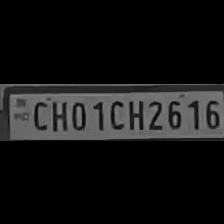0: (68, 98, 88, 130)
1: (88, 97, 106, 130), (184, 97, 202, 129)
2: (144, 96, 162, 130)
6: (164, 97, 182, 129), (202, 96, 220, 128)
C: (28, 96, 48, 130), (105, 96, 124, 130)
H: (48, 97, 68, 131), (125, 96, 143, 130)
